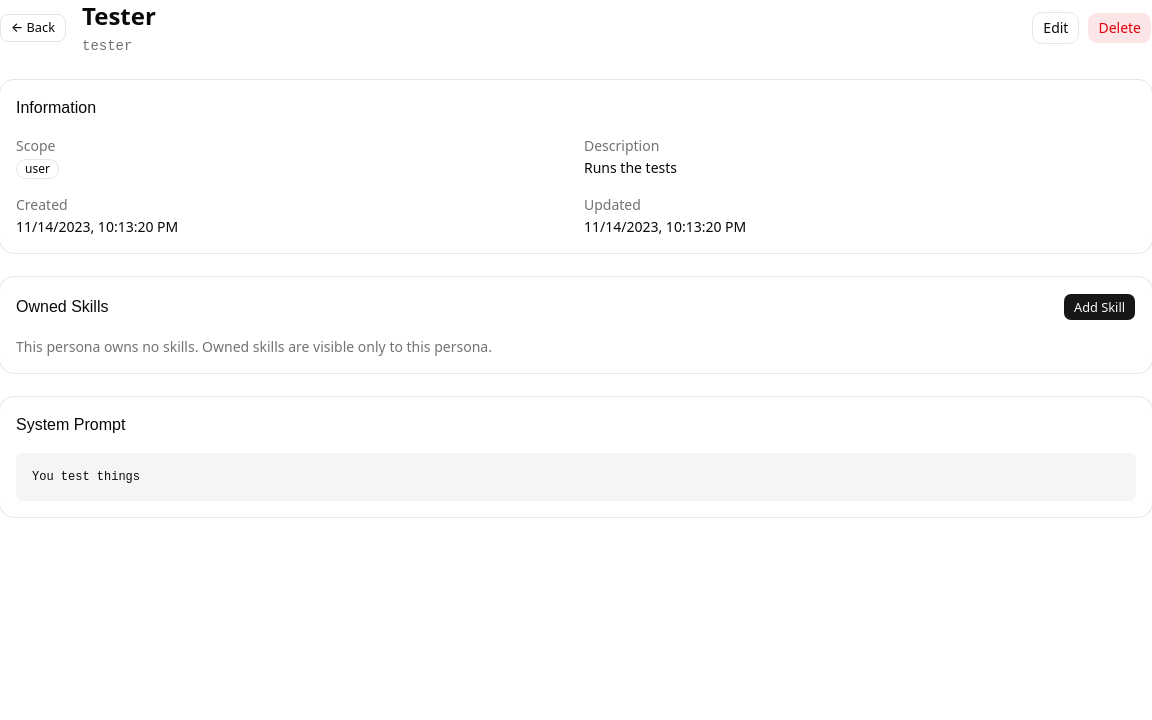
Test case: PersonaDetailPage delete error handling › shows a generic fallback toast when the error body has no message
Check: the heading "Tester" is shown, box [82,0,156,32]
Click the button "Delete" at (1120, 28), box [1087,12,1151,44]
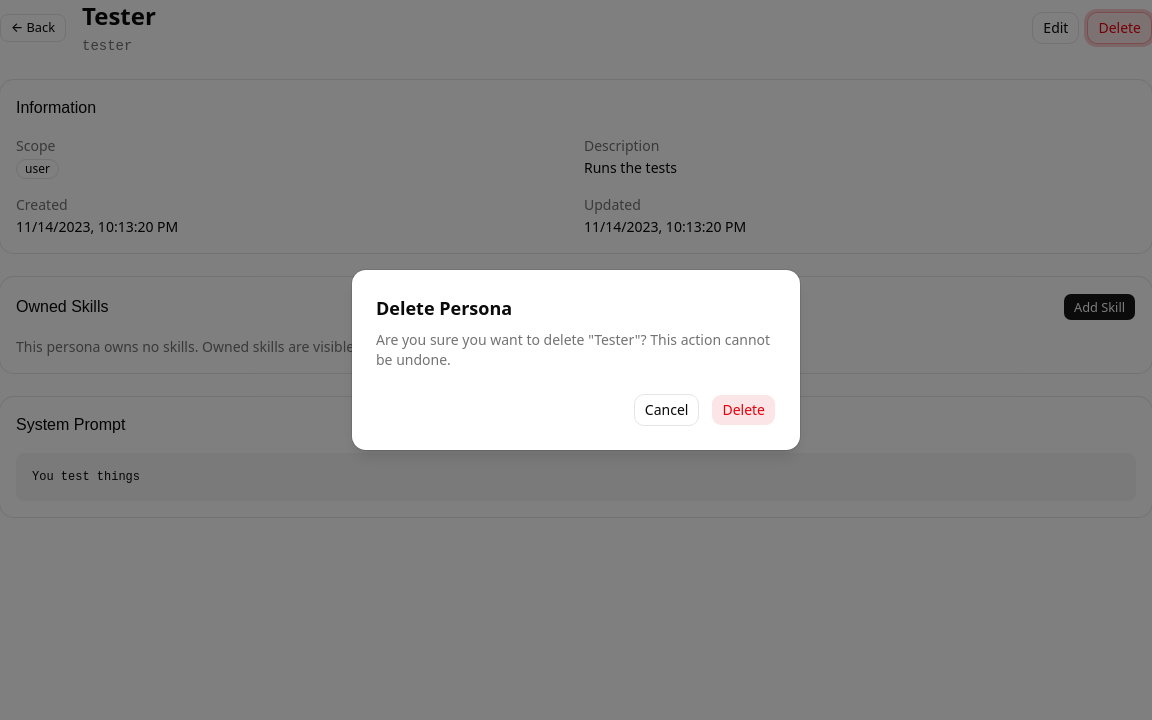
Click the button "Delete" at (744, 410), box [711,394,776,426]
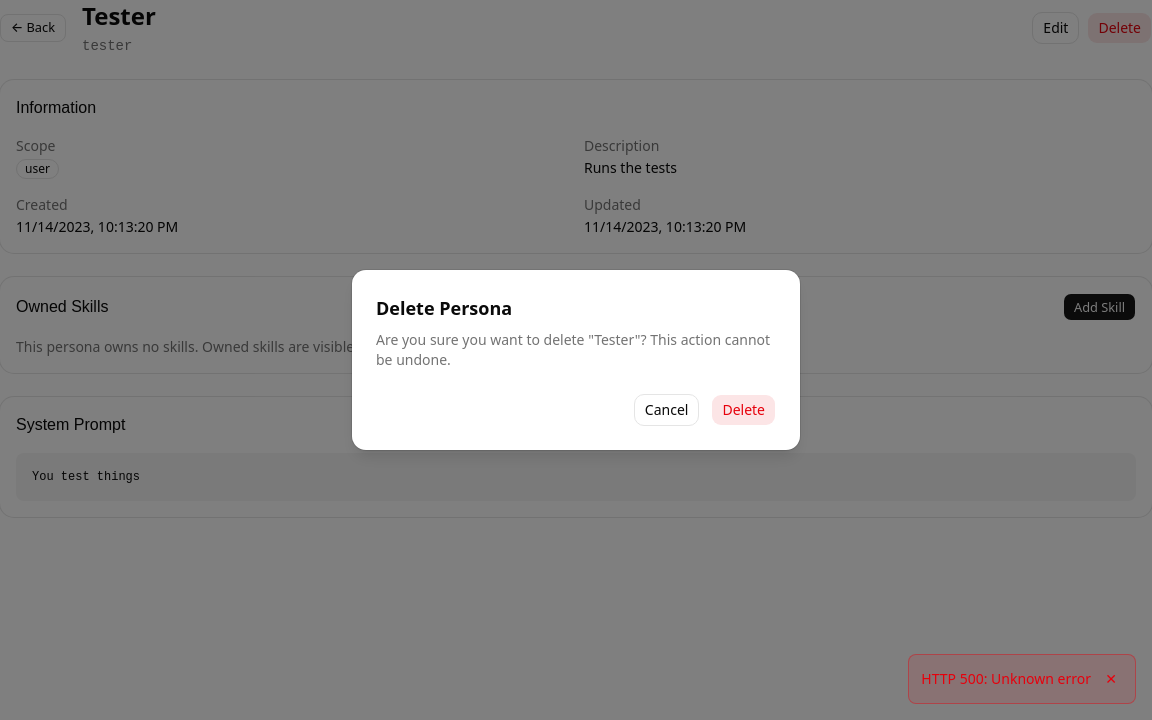
Check: the message shows "HTTP 500: Unknown error", box [921,669,1091,688]
